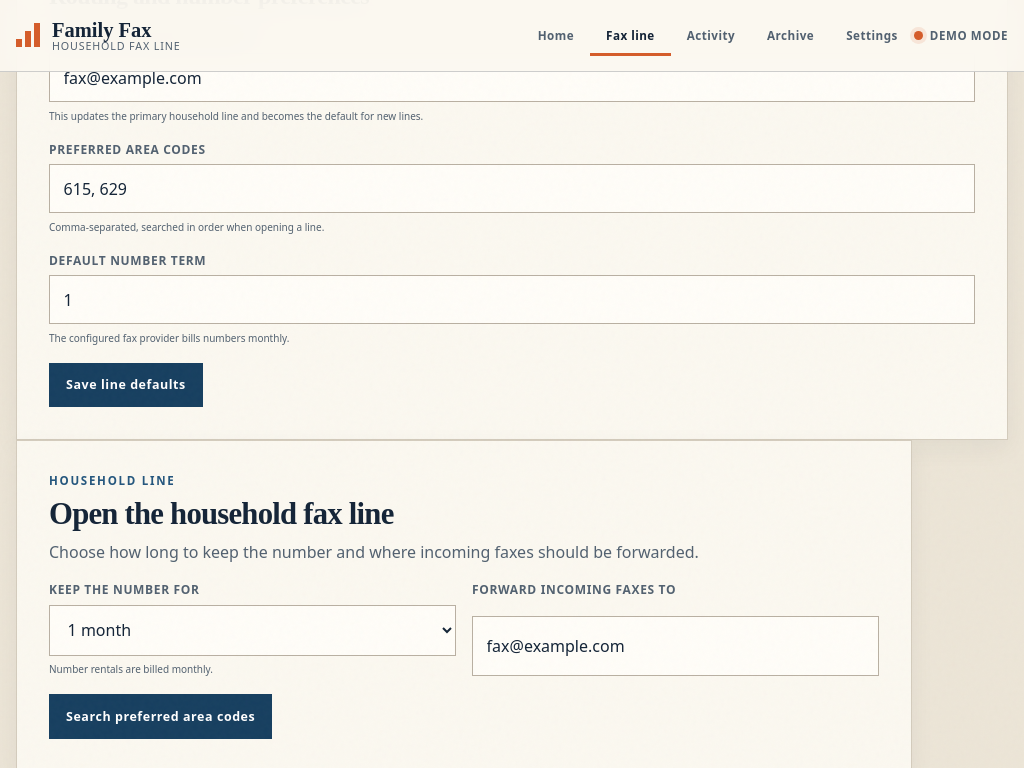
Test: Family Fax application › keeps the usable app visible when a later refresh fails
(page scrolled)
Click the button "Save line defaults".
click(126, 385)  # box [49,362,203,407]
(page scrolled)
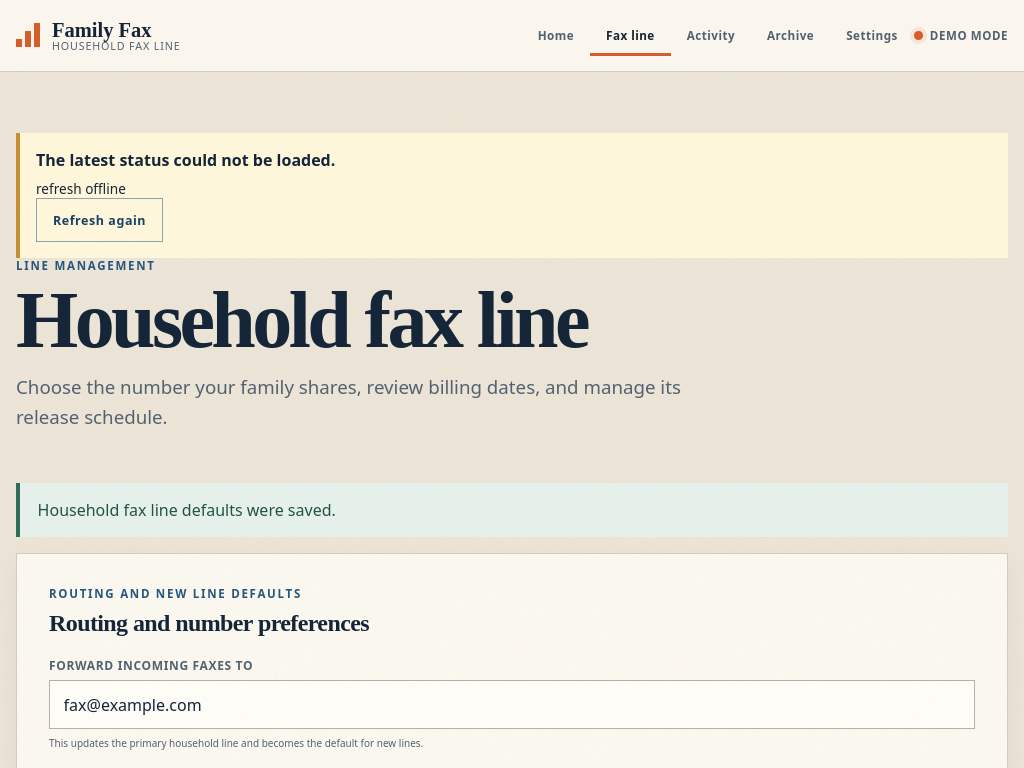
Expected: the heading "Household fax line" is shown, [16,276,587,364]
Expected: the text "The latest status could not be loaded." is shown, [36,149,335,171]
